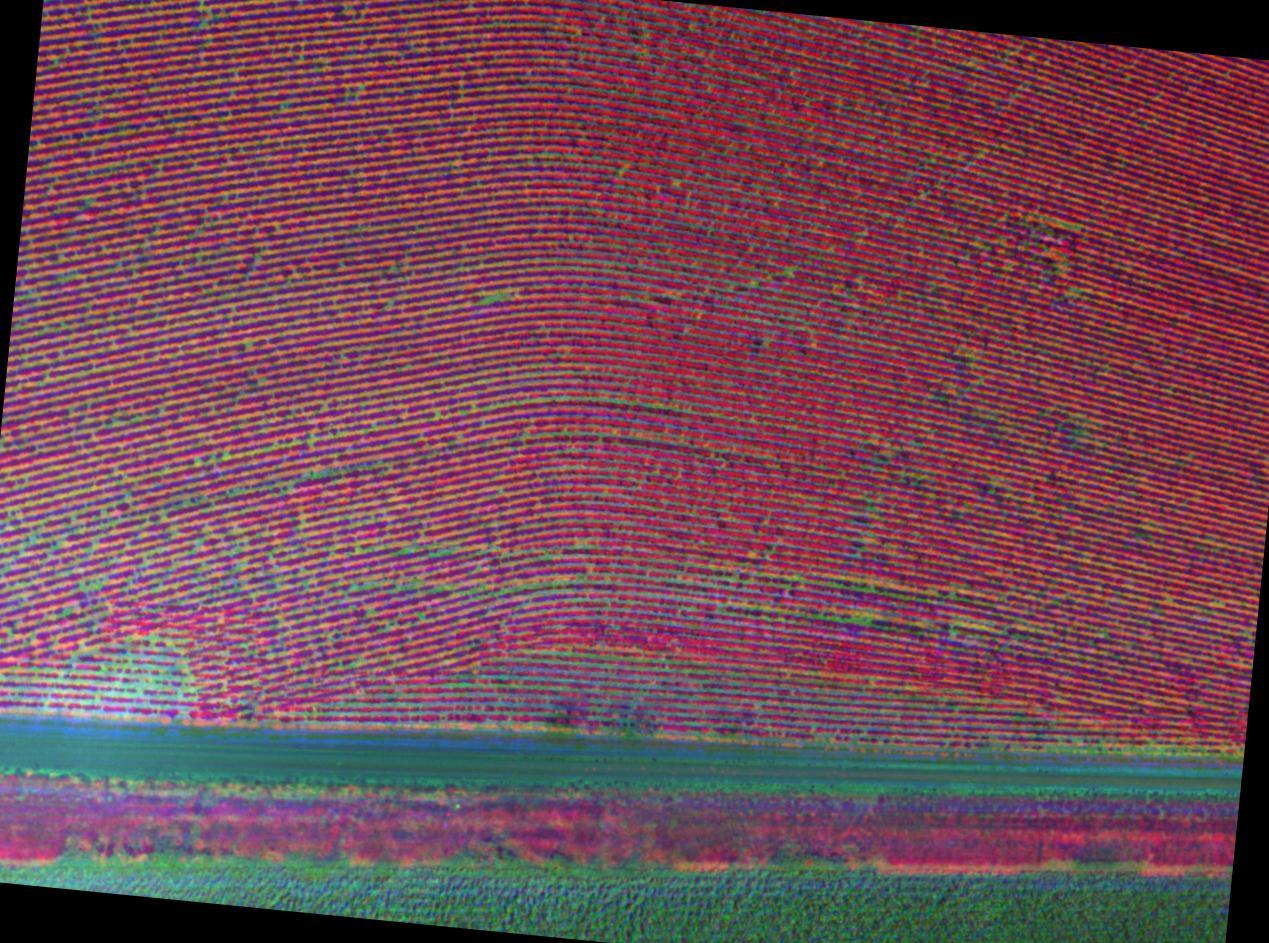dc: (236, 529, 241, 535), (496, 295, 500, 299), (367, 583, 371, 587), (438, 587, 442, 591), (484, 300, 488, 303), (580, 545, 584, 548), (792, 577, 795, 580)
